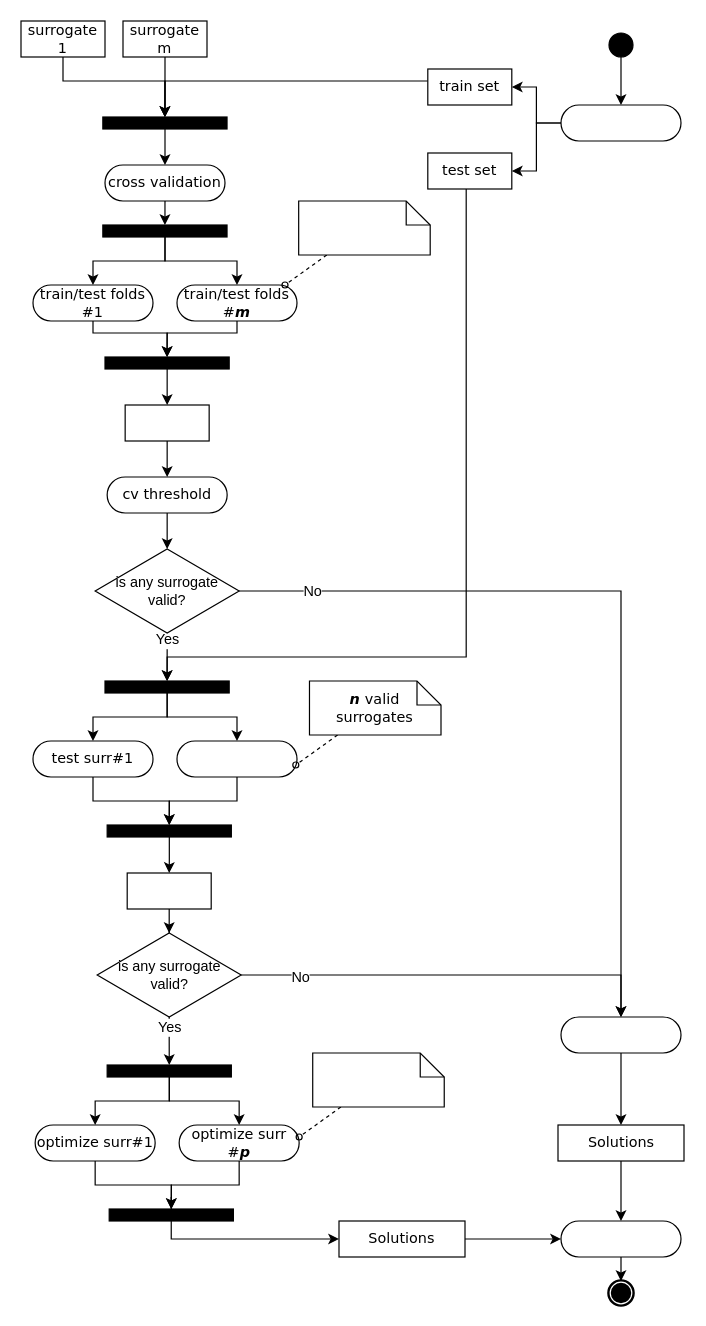
This 706x1326 diagram has some shape labels left out. Each missing label, with the centre of its shape:
cv results: [166,422]
m surrogates in portfolio: [363,227]
p valid surrogates: [378,1079]
predict: [620,1238]
Sampling plan: [620,1034]
split samples: [620,122]
test results: [168,890]
test surr # n: [236,758]
